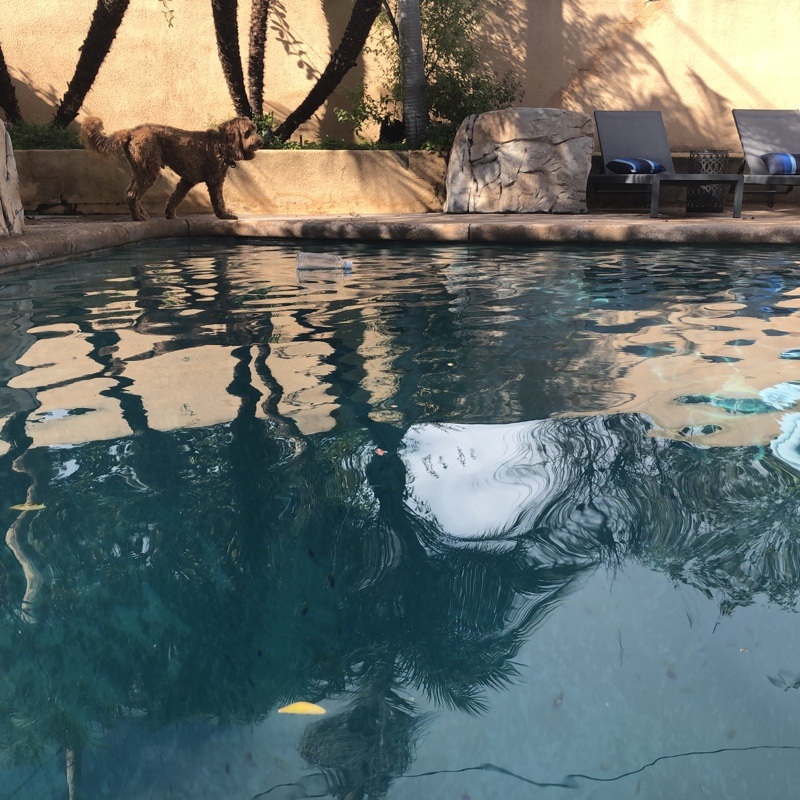Plastic Bottle: (294, 248, 354, 275)
